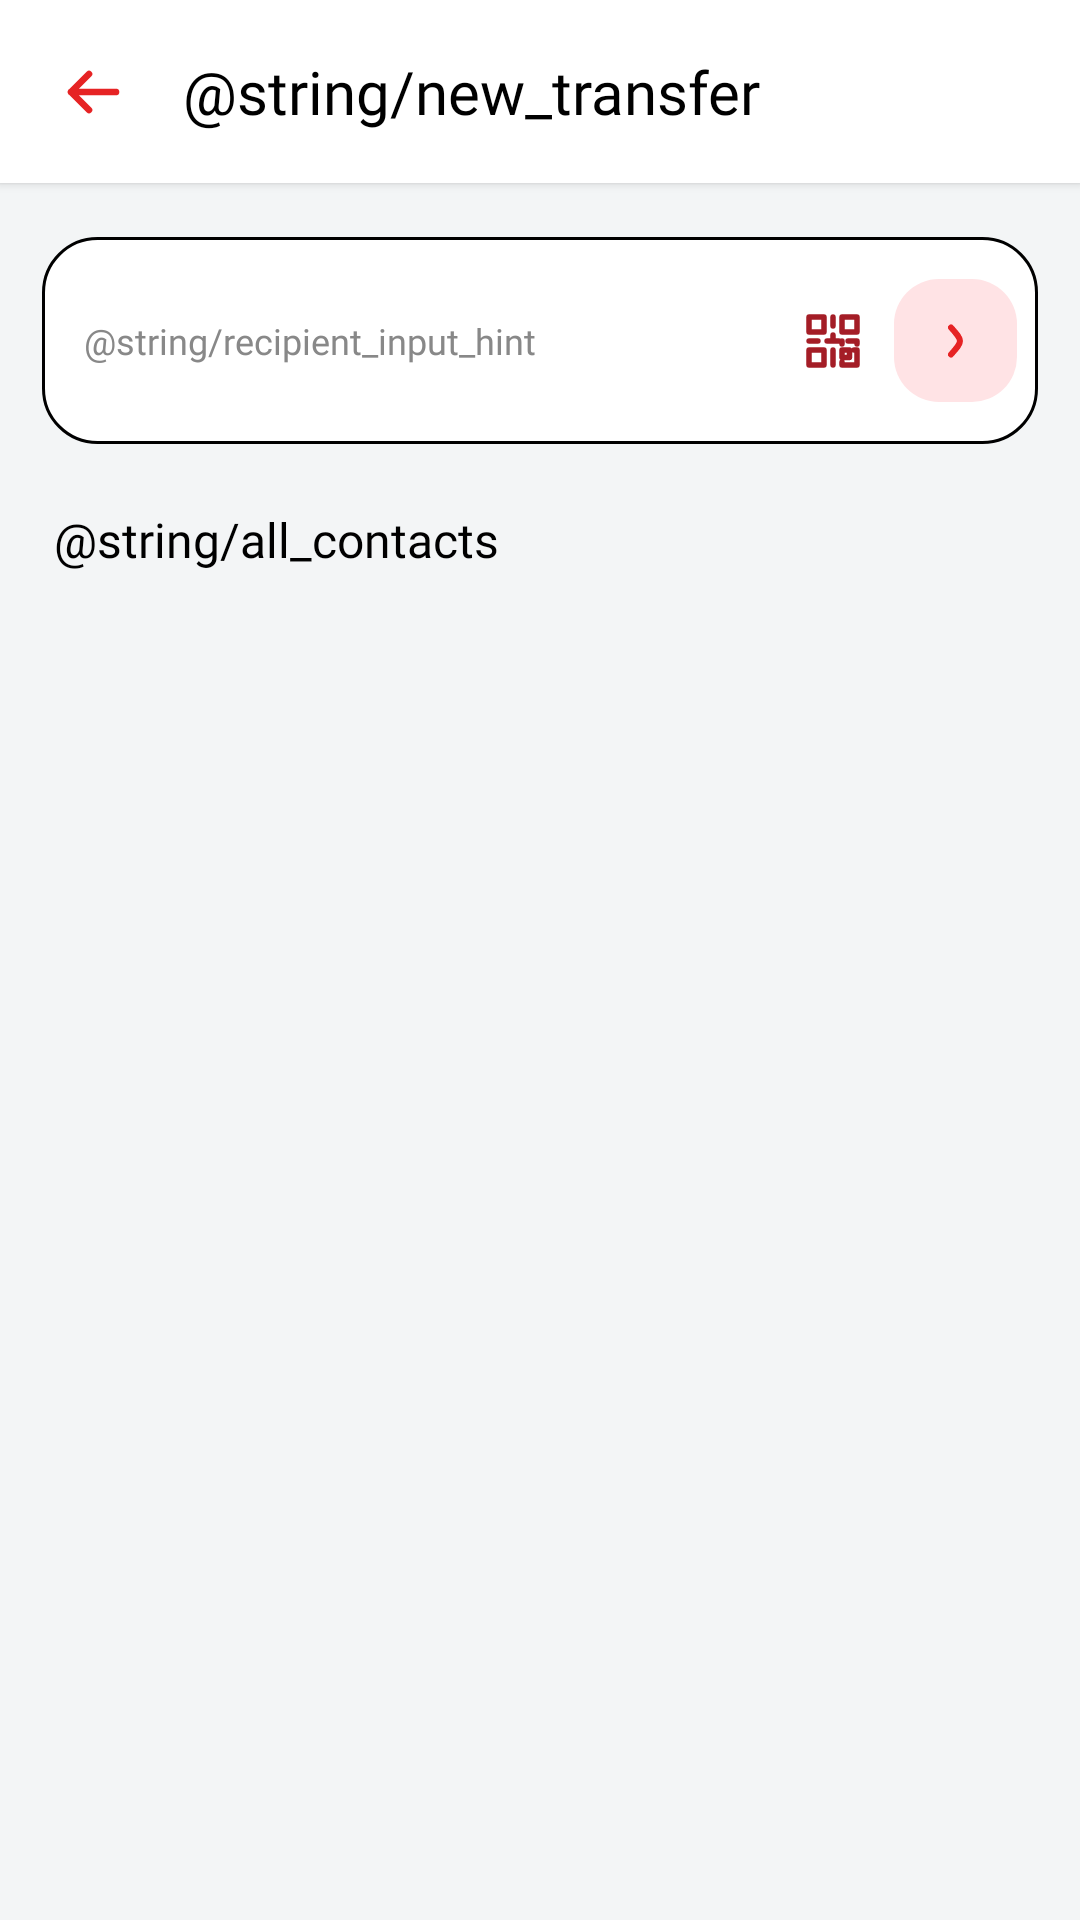

Screen size 1080 × 1920. Icon name, then its box in pixels as {"x1": x1, "y1": y1, "x2": x2, "y2": y2}:
arrow left: {"x1": 67, "y1": 70, "x2": 120, "y2": 114}
qr scan: {"x1": 806, "y1": 314, "x2": 860, "y2": 368}
right arrow: {"x1": 894, "y1": 279, "x2": 1017, "y2": 402}
